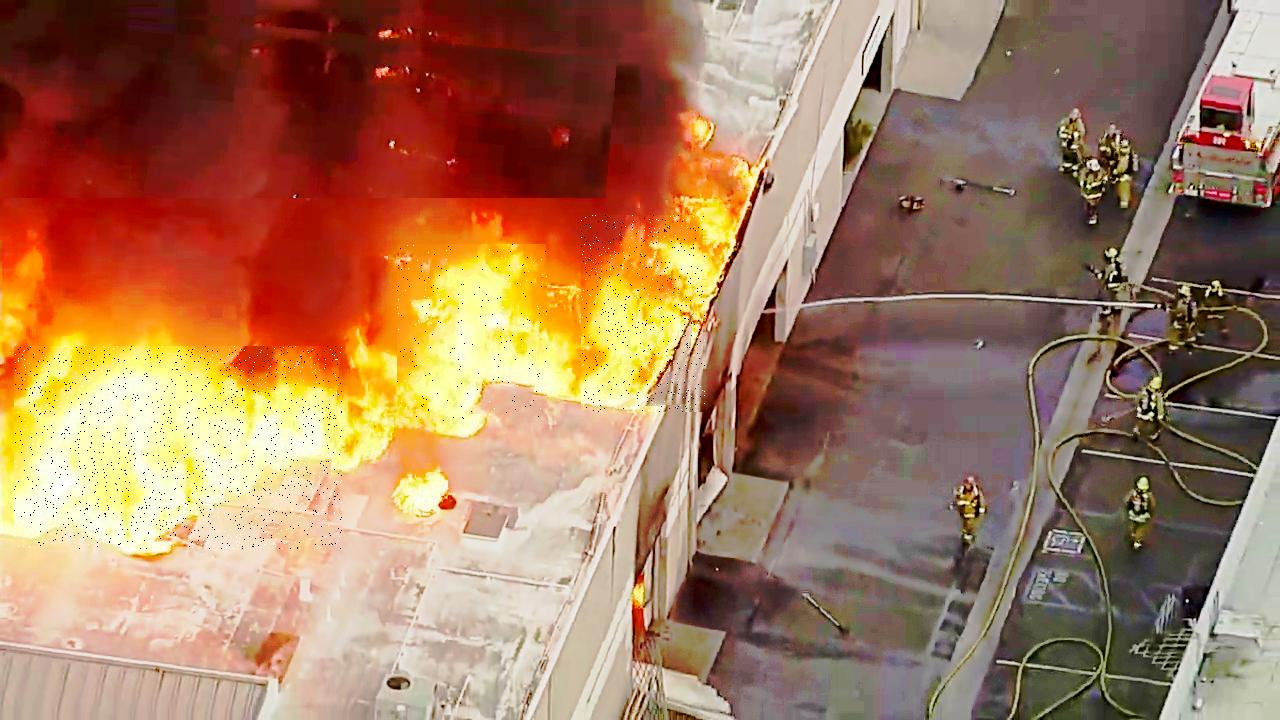fire: (14, 347, 342, 550), (397, 245, 547, 422), (582, 215, 706, 412)
smoke: (0, 0, 617, 198)
